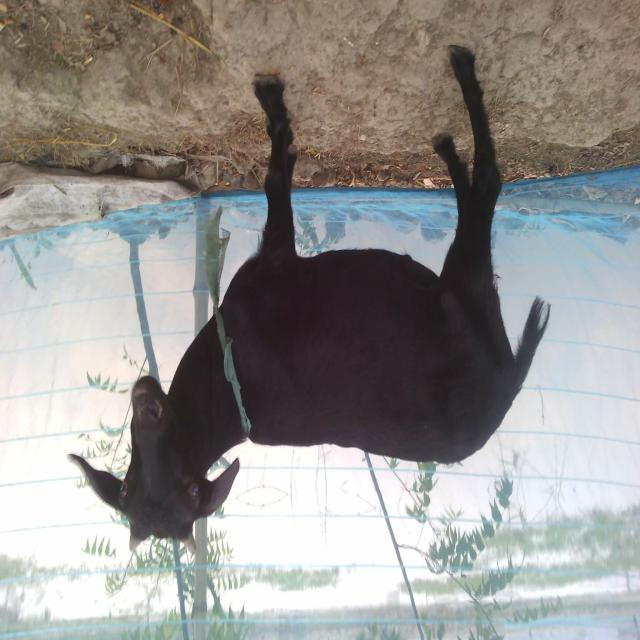Goat: (67, 45, 552, 556)
